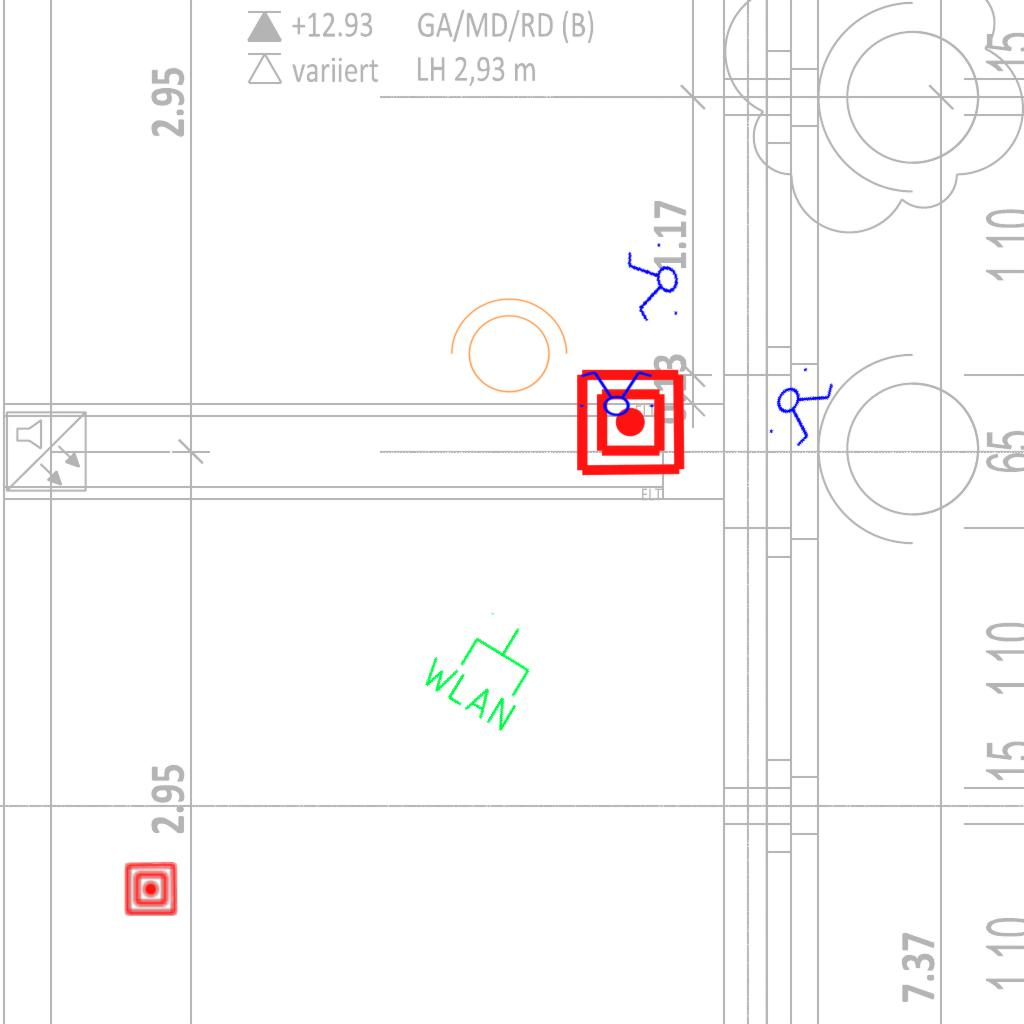NAM-Nichtautomatischer_Melder: (574, 366, 687, 479), (123, 861, 179, 917)
Scheinwerfer_fuer_Alarmbeleuchtung: (440, 293, 572, 405)
Serienschalter: (758, 357, 842, 455), (621, 236, 689, 330), (574, 369, 658, 417)
WLAN: (413, 593, 557, 738)
